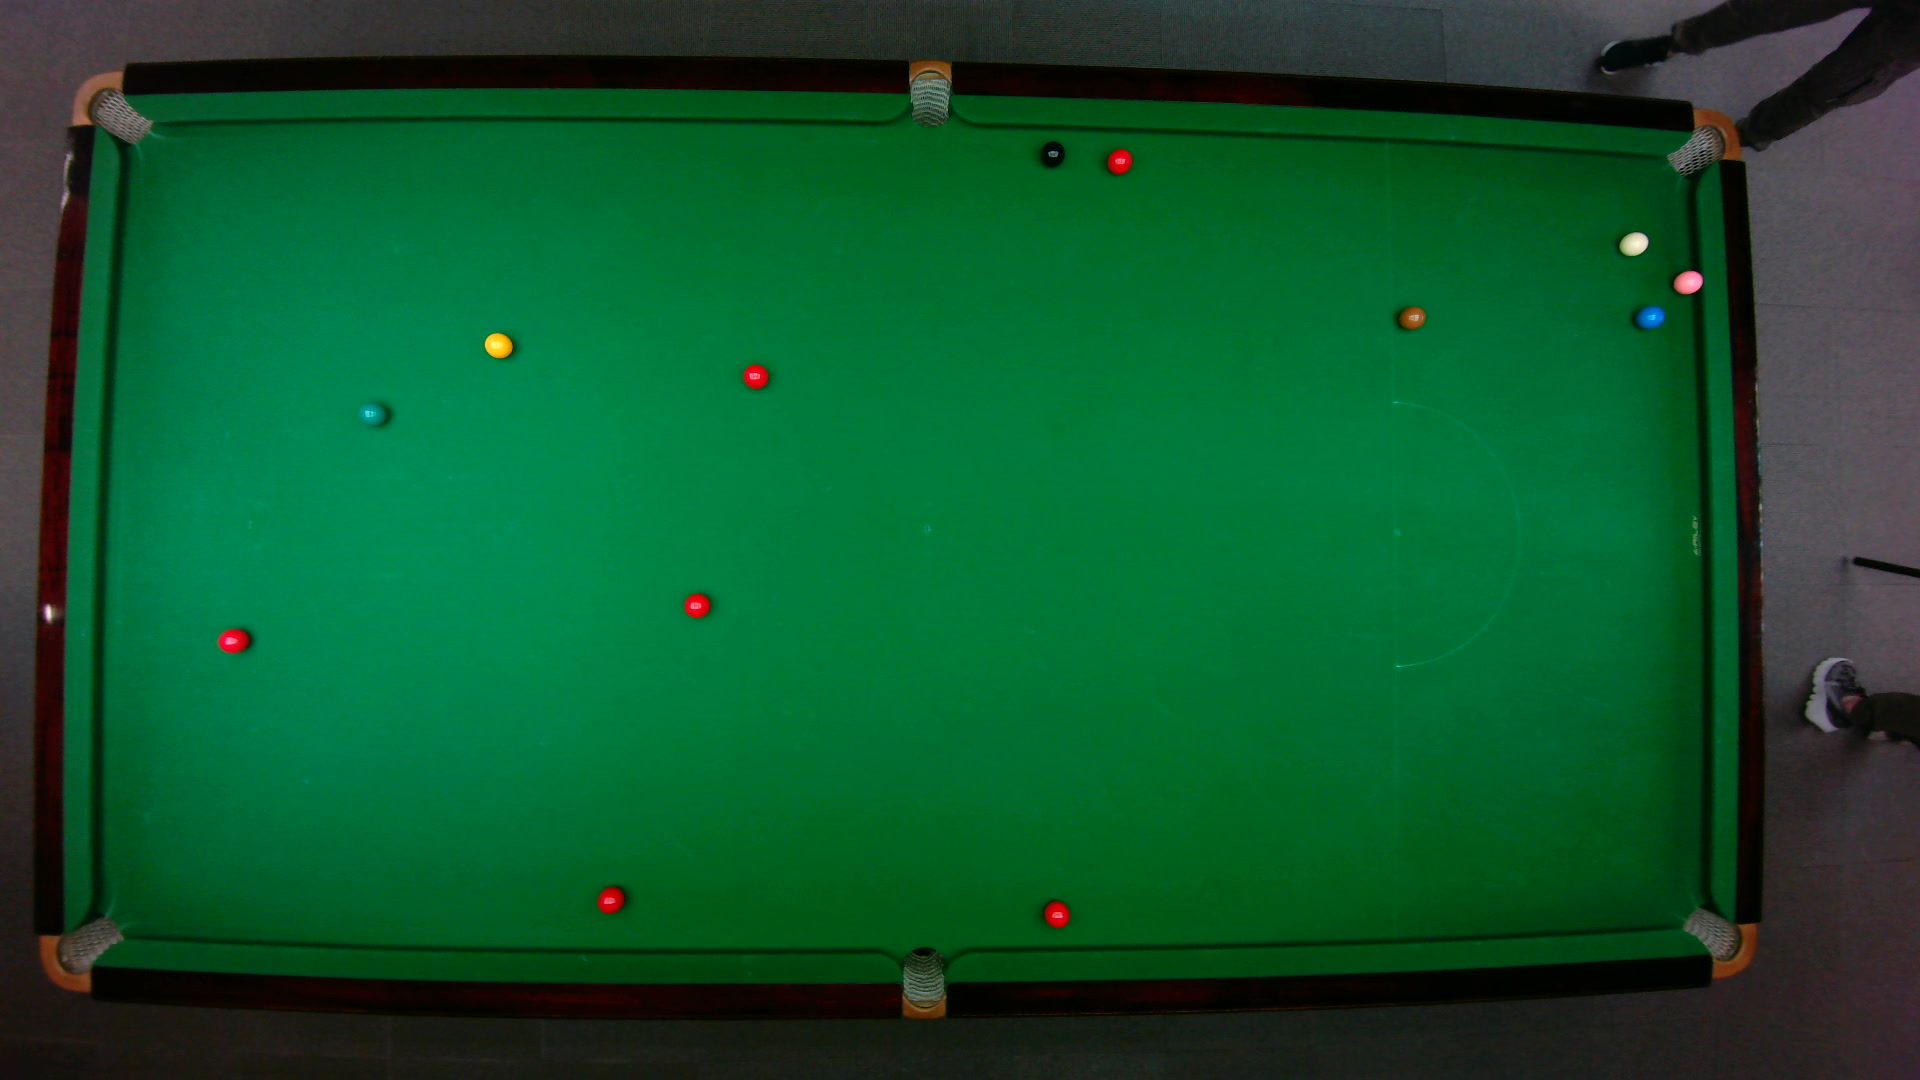bag: (37, 913, 125, 992), (69, 69, 153, 145), (1679, 905, 1756, 978), (1663, 107, 1741, 177), (901, 944, 944, 1021), (909, 57, 949, 128)
black: (1040, 140, 1063, 166)
blue: (1633, 303, 1665, 328)
brown: (1396, 305, 1427, 328)
green: (357, 400, 386, 426)
pink: (1669, 266, 1704, 295)
red: (215, 625, 251, 653), (595, 884, 625, 914), (1042, 899, 1071, 928), (1105, 146, 1133, 175), (682, 591, 709, 618), (741, 363, 767, 388)
white: (1615, 229, 1648, 256)
yellow: (483, 330, 514, 359)
zone: (1390, 400, 1520, 669)
